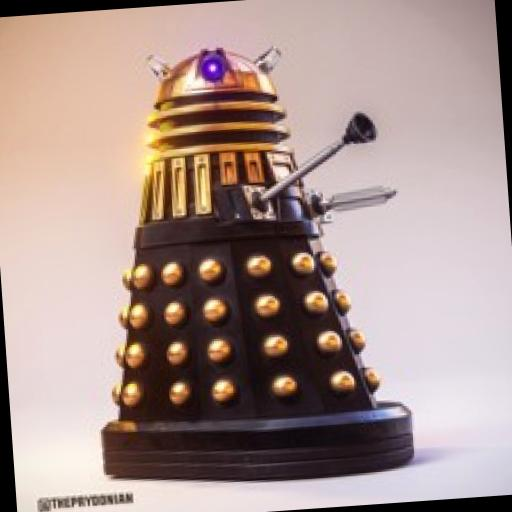dalek: (70, 36, 421, 494)
